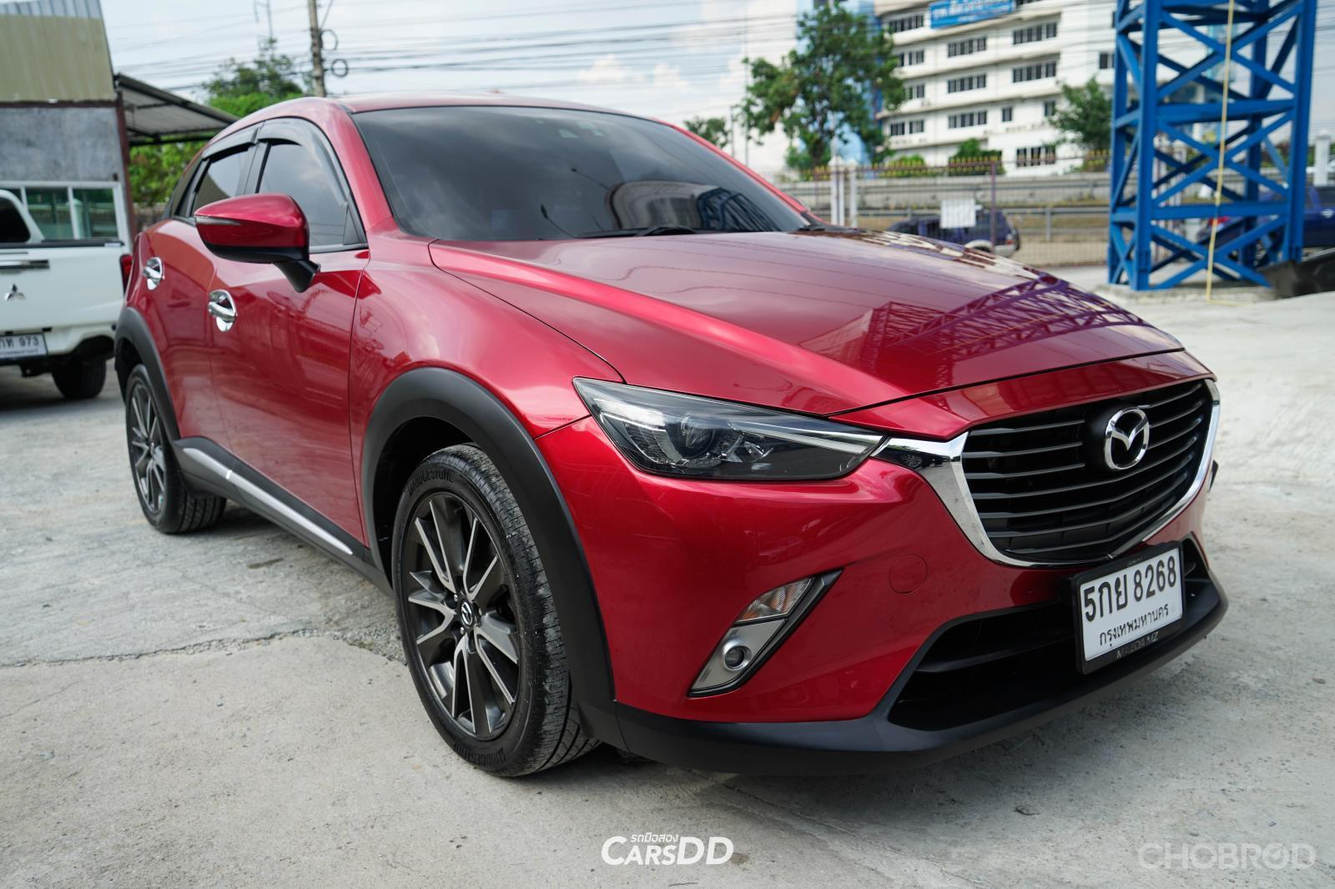license-plate: (1055, 544, 1199, 678)
